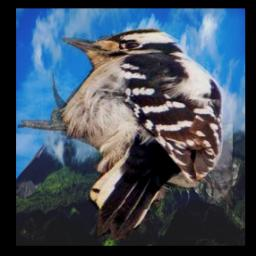Woodpecker: (18, 25, 233, 240)
